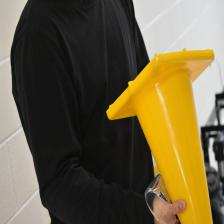cone: (106, 48, 214, 224)
